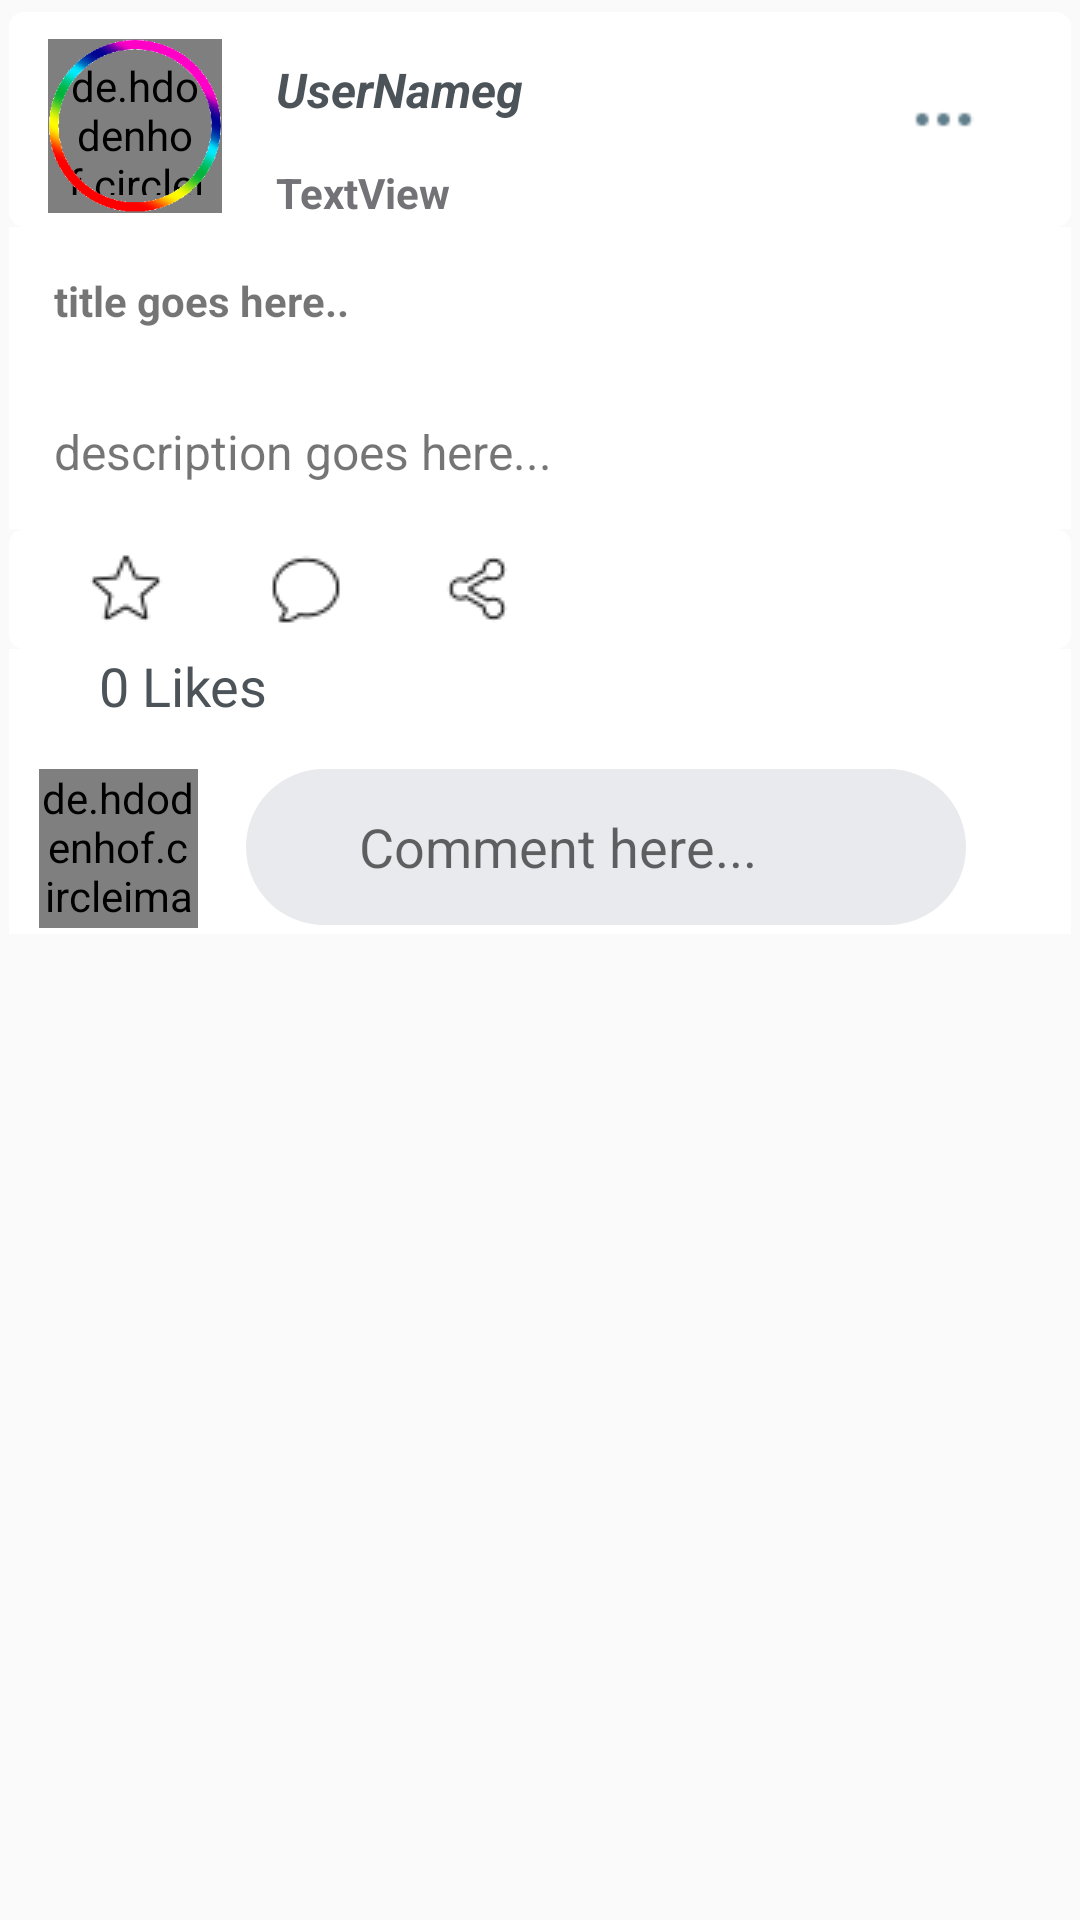

Locate icon controls on the screen. Image size 1080 x 1920, boxes as region(x1, y1, x2, y2).
share: region(449, 558, 506, 620)
star: region(92, 555, 160, 620)
